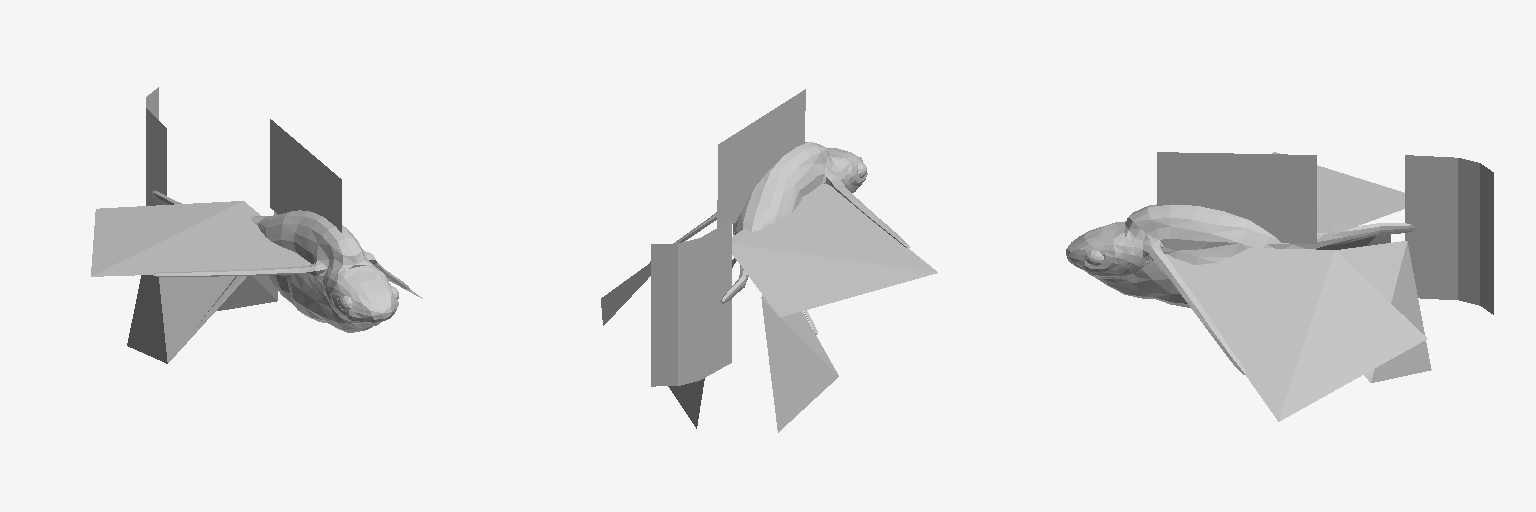
Rendered from fish_000048.obj.
The picture shows the model from 3 angles: view 1: azimuth 30°, elevation 25°; view 2: azimuth 150°, elevation 25°; view 3: azimuth 270°, elevation 25°; orthographic projection.
Visible parts, largest first — view 1: flyingFish_low_StingrayPBS1_0; view 2: flyingFish_low_StingrayPBS1_0; view 3: flyingFish_low_StingrayPBS1_0.
Part boxes in pixels (left/top/right/bottom): flyingFish_low_StingrayPBS1_0: left=91, top=87, right=422, bottom=363; flyingFish_low_StingrayPBS1_0: left=601, top=89, right=937, bottom=432; flyingFish_low_StingrayPBS1_0: left=1066, top=152, right=1493, bottom=421.
Size of the model in its own units: 17.56 by 11.65 by 19.4.